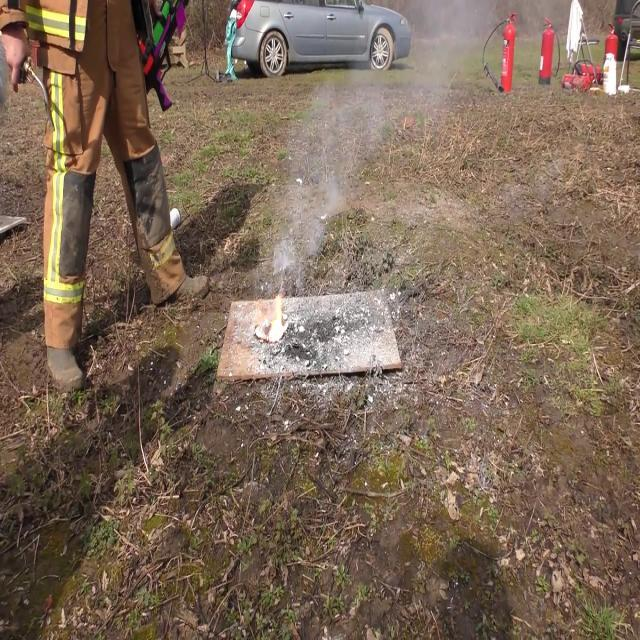Fire: (260, 290, 290, 343)
Smoke: (260, 65, 394, 283)
